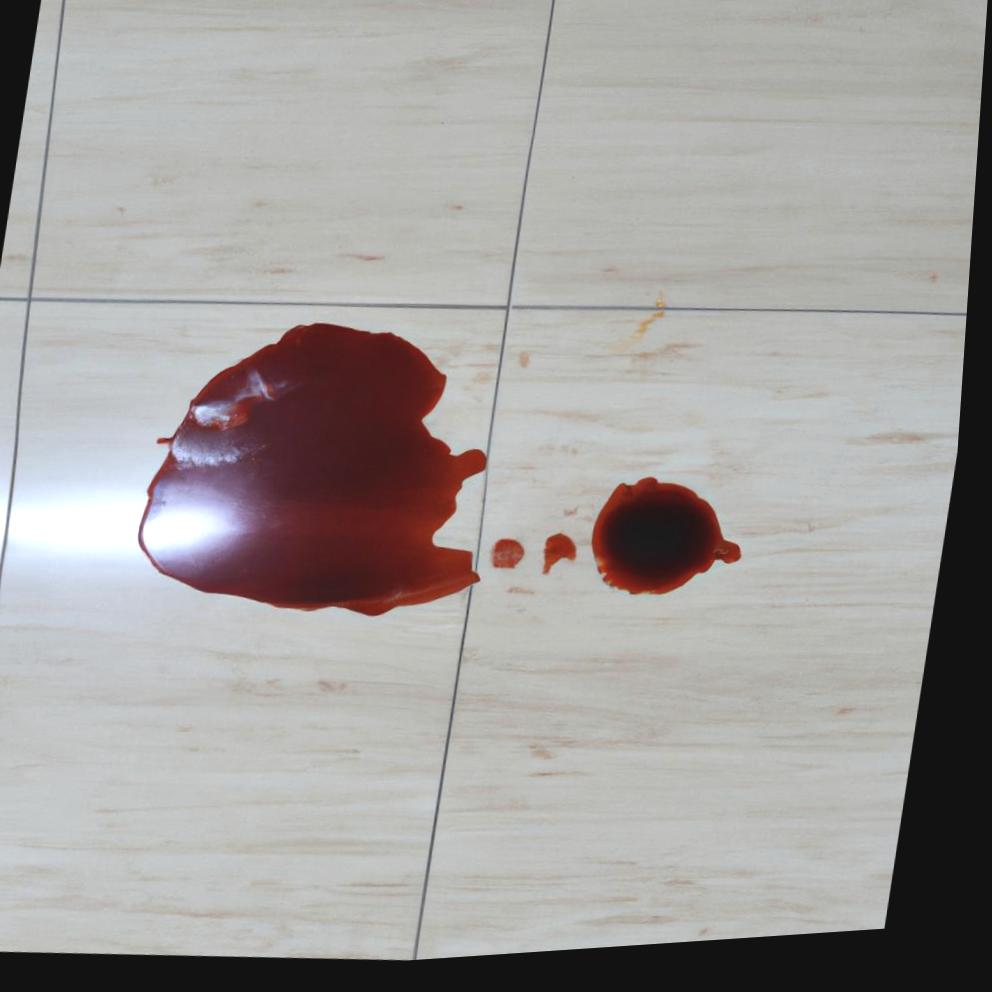Fire: (144, 328, 493, 623), (600, 488, 750, 605), (550, 542, 584, 584), (498, 547, 533, 577)
